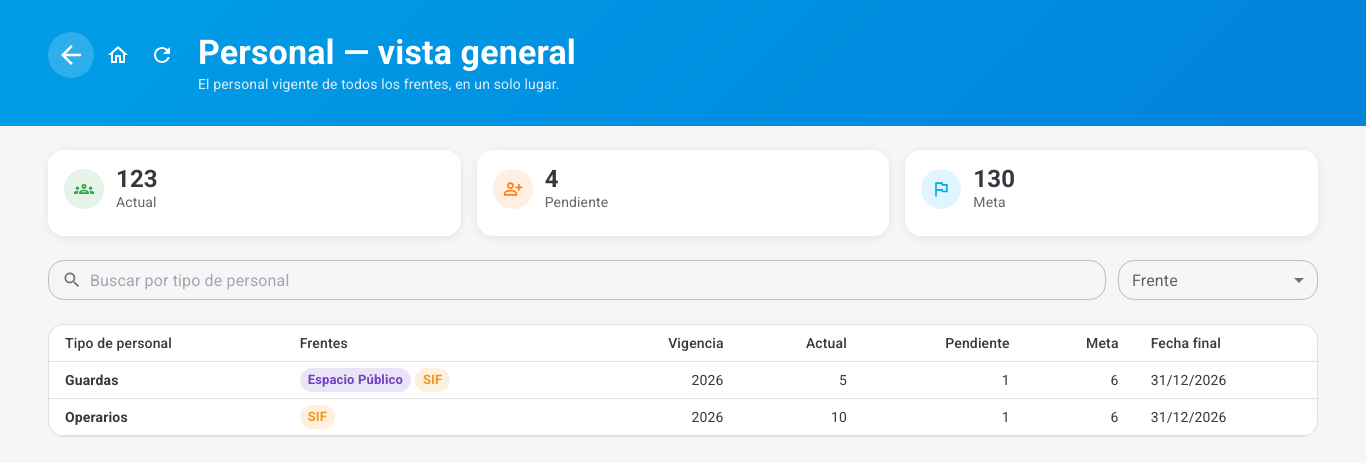
Scenario: PersonalGeneralPage › filtra por frente
Click the dropdown named "Frente". click: [1218, 280]
box: [1118,260,1318,300]
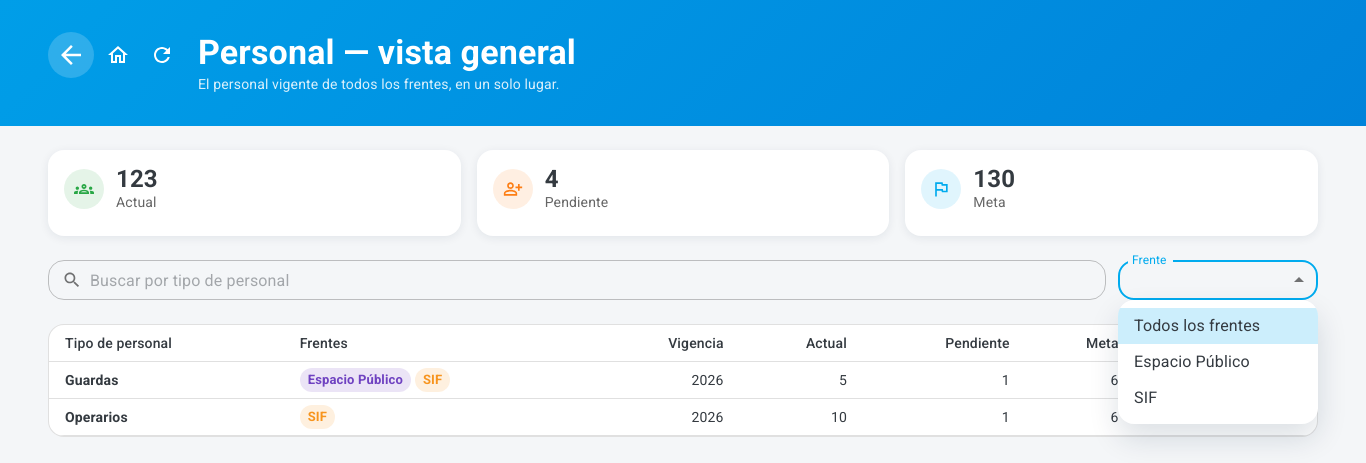
Click the option "Espacio Público". click: [1192, 362]
box: [1134,352,1250,371]
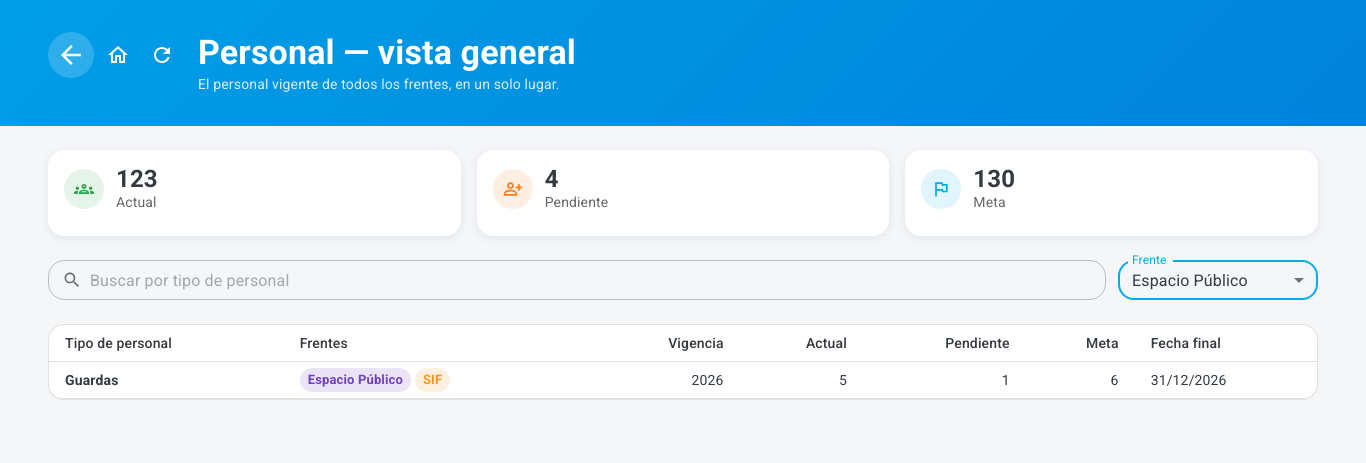
Expected: the row "Guardas Espacio Público SIF 2026 5 1 6 31/12/2026" is shown, [49,362,1317,399]
Result: the cell "Operarios" is gone
